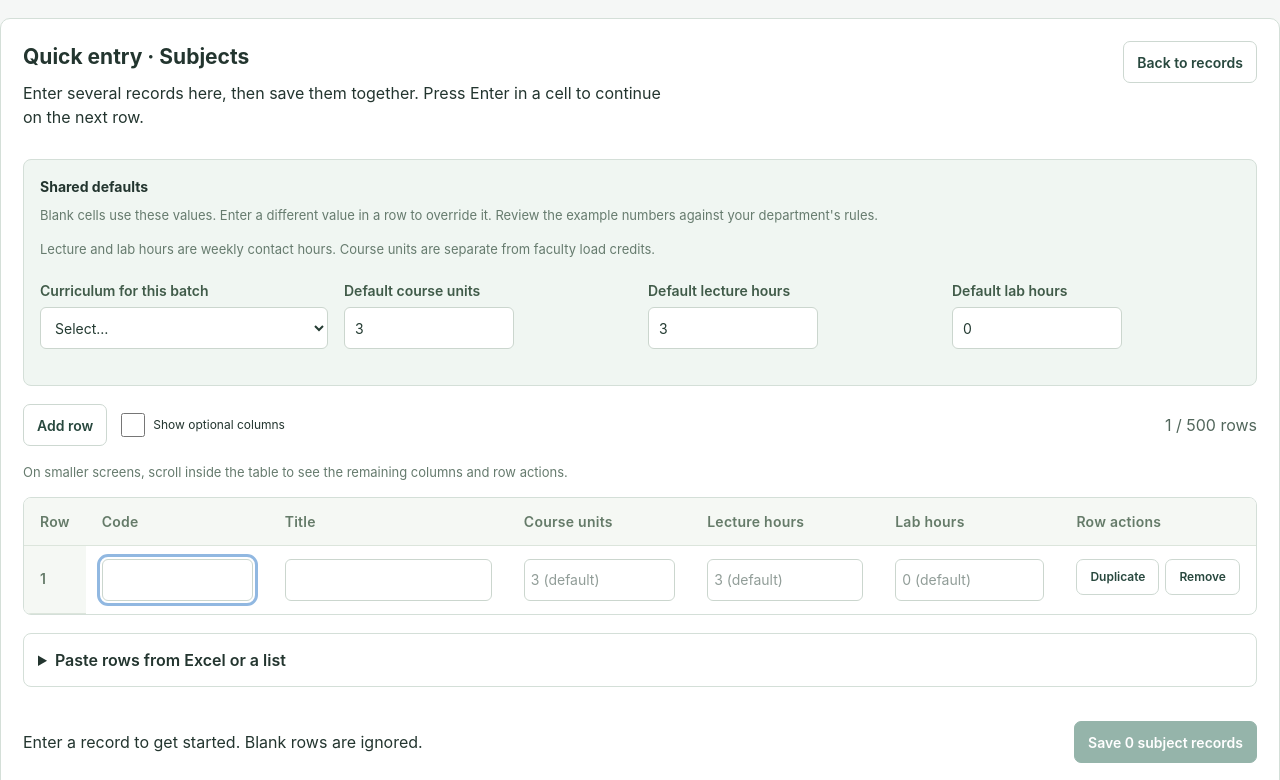
it: explains a missing curriculum beside the shared selection
Type "CS 301" into the field named "Code row 1" at (177, 580), box [102,559,253,601]
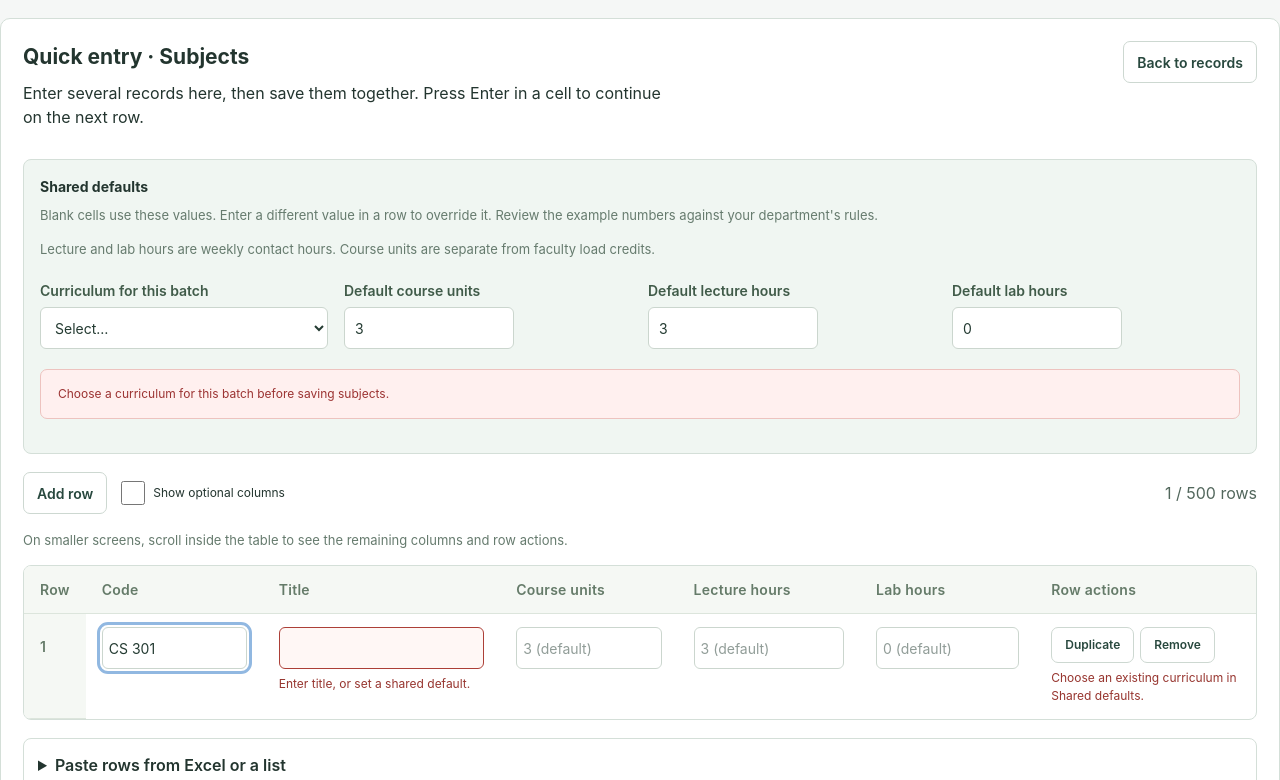
Type "Algorithms" into the field named "Title row 1" at (382, 648), box [279,627,484,669]
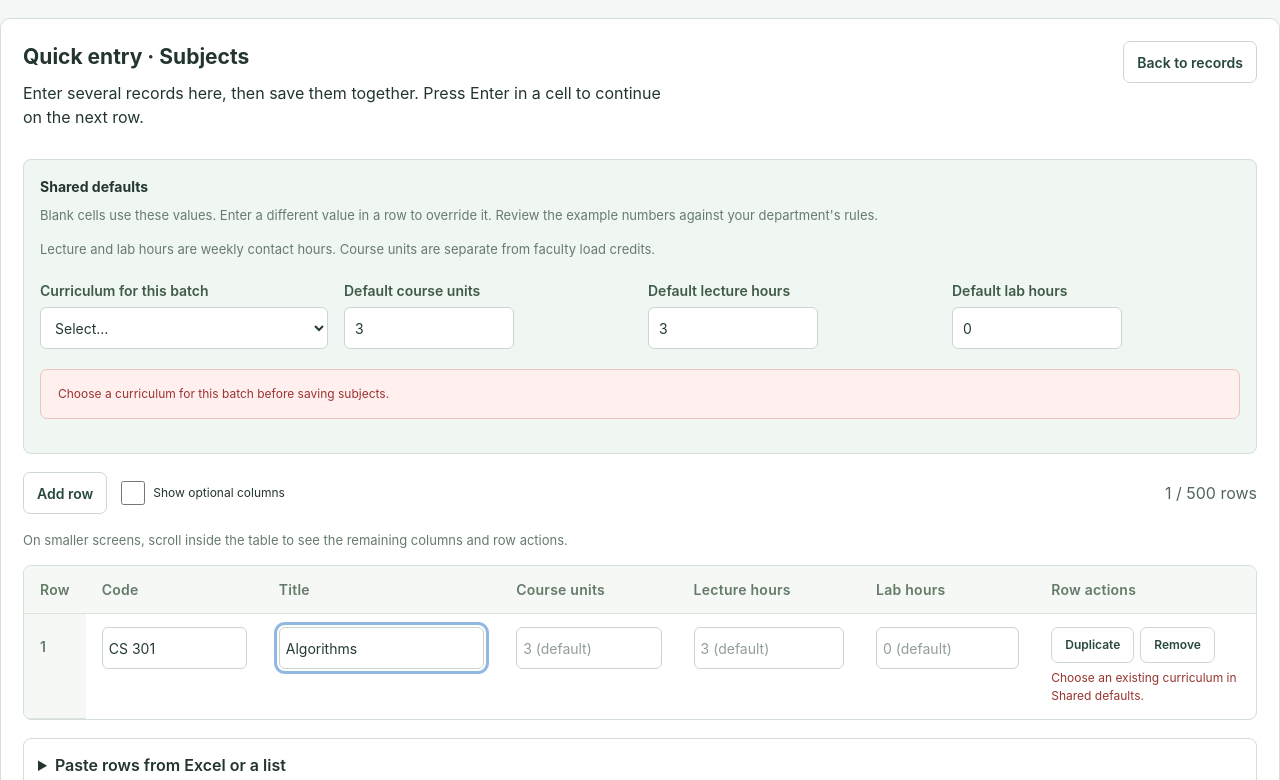
Result: the message shows "Choose a curriculum" at [58,386,389,401]
Select "Another version · BSCS" in the dropdown labelled "Curriculum for this batch" at (184, 328), box [40,307,328,349]
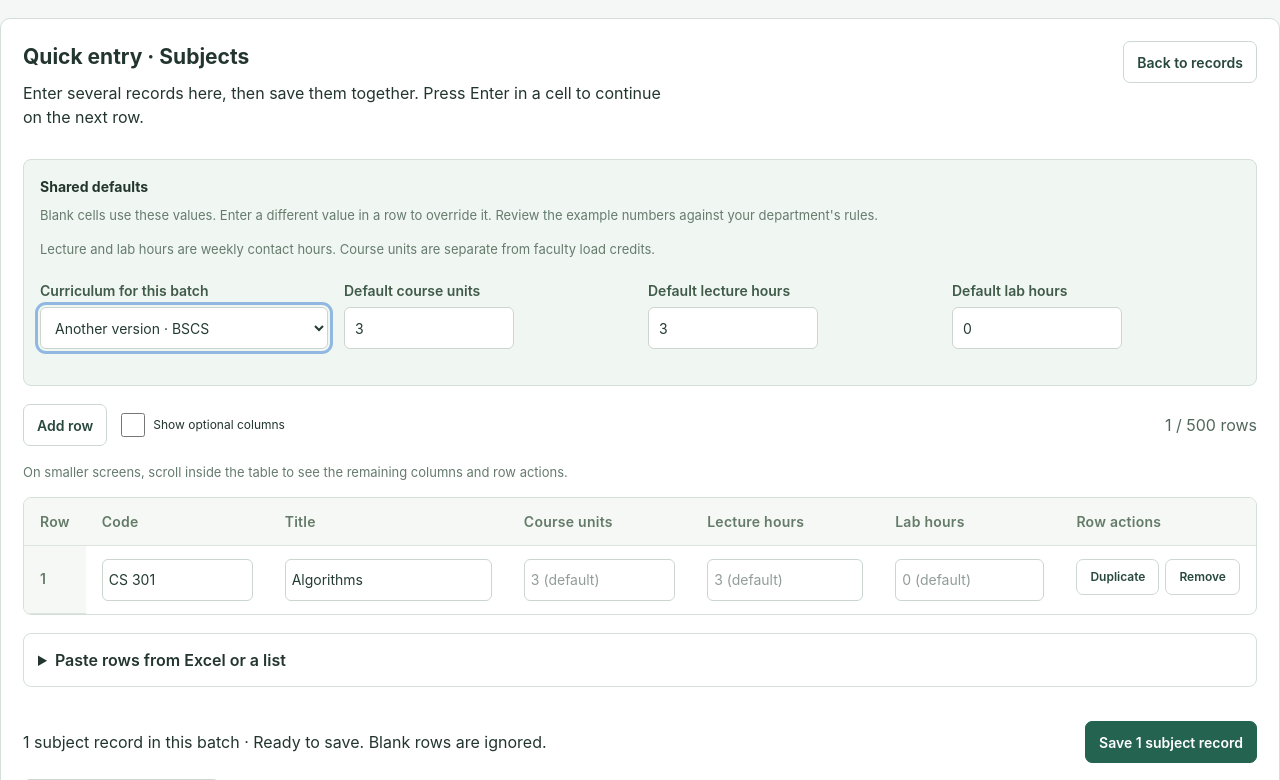
Result: the button "Save 1 subject record" is enabled at [1085,721,1257,763]
